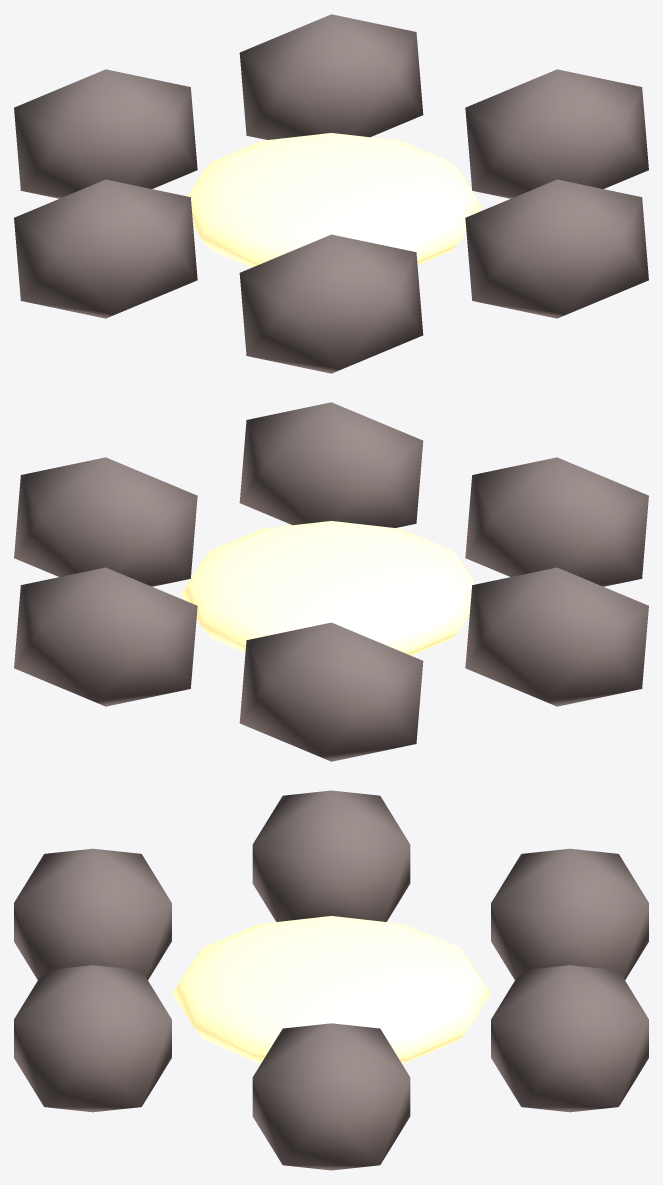
File: vent.glb
3 views of the same model, one above another, from view 1: azimuth 30°, elevation 25°; view 2: azimuth 150°, elevation 25°; view 3: azimuth 270°, elevation 25° (orthographic). The views are drawn at different scales.
Visible parts, largest first — view 1: Rocks, GlowVent; view 2: Rocks, GlowVent; view 3: Rocks, GlowVent.
Boxes of the visible parts, x1,y1,x2,y2 form: Rocks: [14, 14, 648, 373]; GlowVent: [187, 133, 482, 267]; Rocks: [14, 402, 648, 761]; GlowVent: [180, 521, 475, 655]; Rocks: [14, 790, 648, 1170]; GlowVent: [172, 916, 490, 1063].
Size of the model in its own units: 1.05 by 0.224 by 0.8759.
